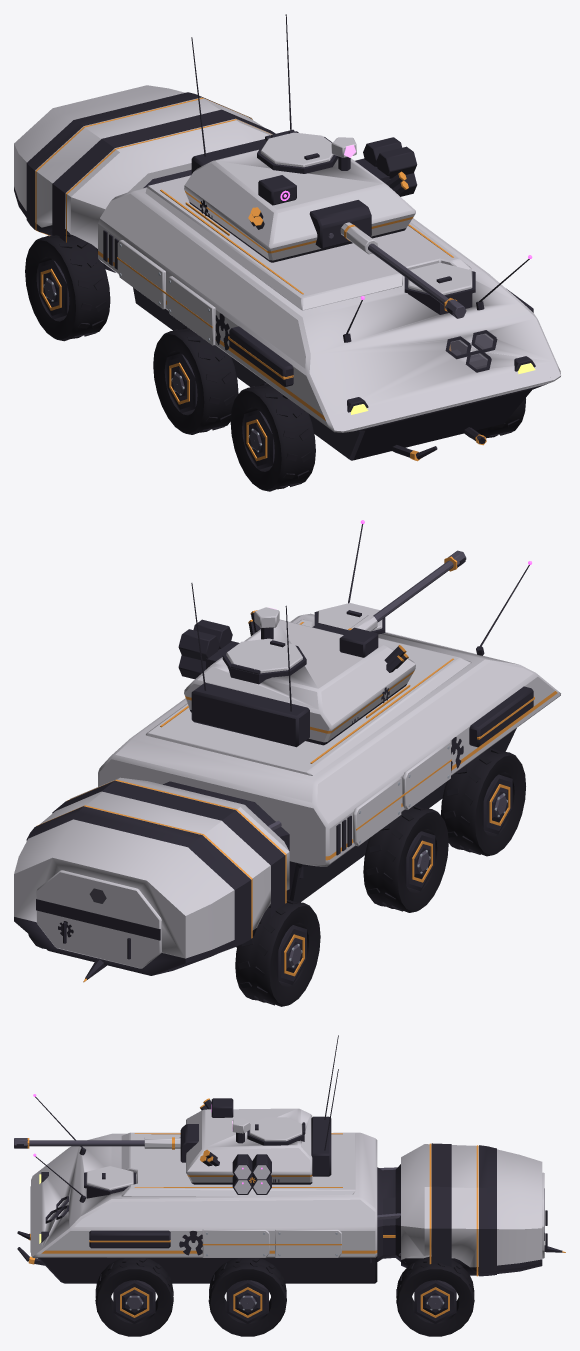
Rendered from r41_ifv.glb.
3 renders of one model, top to bottom at view 1: azimuth 30°, elevation 25°; view 2: azimuth 150°, elevation 25°; view 3: azimuth 270°, elevation 25°, orthographic. The views are drawn at different scales.
Visible parts, largest first — view 1: body_light, turret_light, body_shell, wheel_RR, wheel_FR, wheel_MR, turret_shell, body_amber, hatch_commander, gun_shell, hatch_driver, gun_metal (+2 smaller); view 2: body_light, body_shell, turret_light, turret_shell, hatch_rear, wheel_MR, wheel_FR, wheel_RR, body_amber, hatch_commander, hatch_driver, gun_metal; view 3: body_light, body_shell, turret_light, wheel_FL, wheel_ML, wheel_RL, turret_shell, body_amber, hatch_commander, gun_metal, hatch_driver, turret_ceramic (+2 smaller).
Part boxes in pixels (x1,y1,x2,y2): body_light: (14, 85, 560, 460); turret_light: (184, 137, 415, 262); body_shell: (26, 92, 535, 459); wheel_RR: (25, 231, 110, 341); wheel_FR: (230, 383, 315, 491); wheel_MR: (153, 327, 238, 434); turret_shell: (191, 14, 416, 229); body_amber: (35, 97, 486, 461); hatch_commander: (260, 131, 333, 167); gun_shell: (309, 200, 465, 314); hatch_driver: (408, 262, 472, 295); gun_metal: (328, 233, 466, 318); body_light: (14, 613, 560, 975); body_shell: (26, 524, 533, 979); turret_light: (184, 607, 415, 745); turret_shell: (178, 583, 407, 747); hatch_rear: (36, 870, 161, 968); wheel_MR: (363, 805, 448, 912); wheel_FR: (440, 748, 525, 856); wheel_RR: (235, 900, 320, 1006); body_amber: (37, 622, 534, 982); hatch_commander: (226, 638, 302, 673); hatch_driver: (318, 603, 382, 630); gun_metal: (373, 550, 466, 622); body_light: (30, 1132, 542, 1283); body_shell: (17, 1096, 562, 1276); turret_light: (186, 1108, 312, 1184); wheel_FL: (95, 1258, 173, 1336); wheel_ML: (208, 1258, 286, 1336); wheel_RL: (396, 1256, 474, 1336); turret_shell: (201, 1035, 338, 1194); body_amber: (28, 1133, 565, 1276); hatch_commander: (249, 1117, 305, 1141); gun_metal: (14, 1137, 180, 1148); hatch_driver: (86, 1166, 133, 1190); turret_ceramic: (234, 1165, 270, 1193).
Size of the model in its own units: 2.34 by 2.95 by 6.09.
